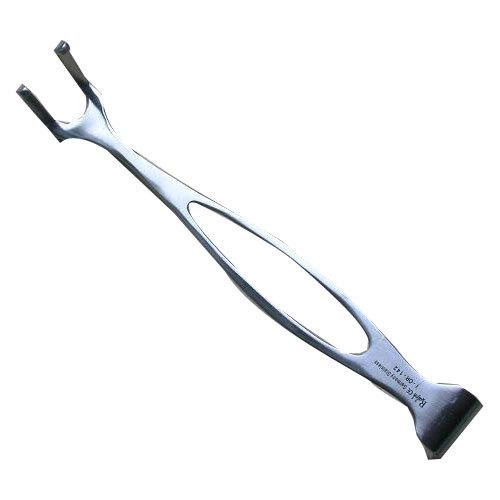Czerney Retractor: (15, 33, 485, 465)
